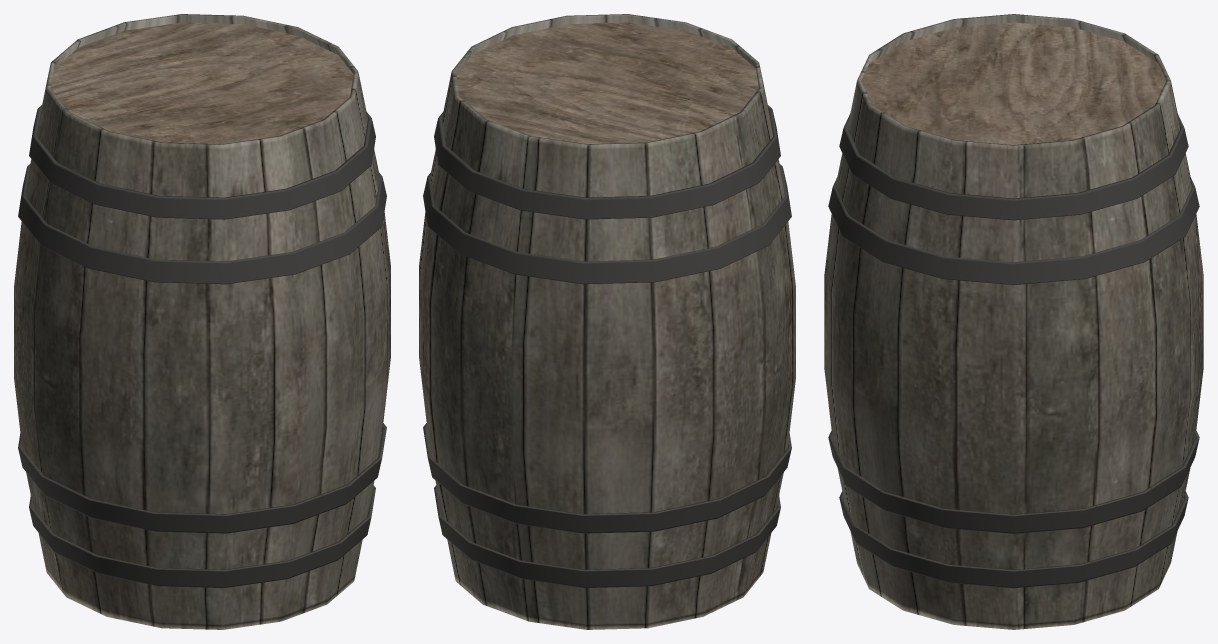
Rendered from barrel.glb.
3 views of the same model, side by side, from view 1: azimuth 30°, elevation 25°; view 2: azimuth 150°, elevation 25°; view 3: azimuth 270°, elevation 25° (orthographic).
Parts seen in each view (by area): view 1: barrel, barrel_iron; view 2: barrel, barrel_iron; view 3: barrel, barrel_iron.
Boxes of the visible parts, left/top/right/bottom form: barrel: left=14, top=14, right=390, bottom=629; barrel_iron: left=18, top=105, right=386, bottom=587; barrel: left=419, top=14, right=795, bottom=629; barrel_iron: left=423, top=105, right=791, bottom=587; barrel: left=824, top=14, right=1203, bottom=629; barrel_iron: left=828, top=114, right=1199, bottom=588.
Size of the model in its own units: 1 by 1.41 by 1.
Materials: 1 (1 with a texture image).
